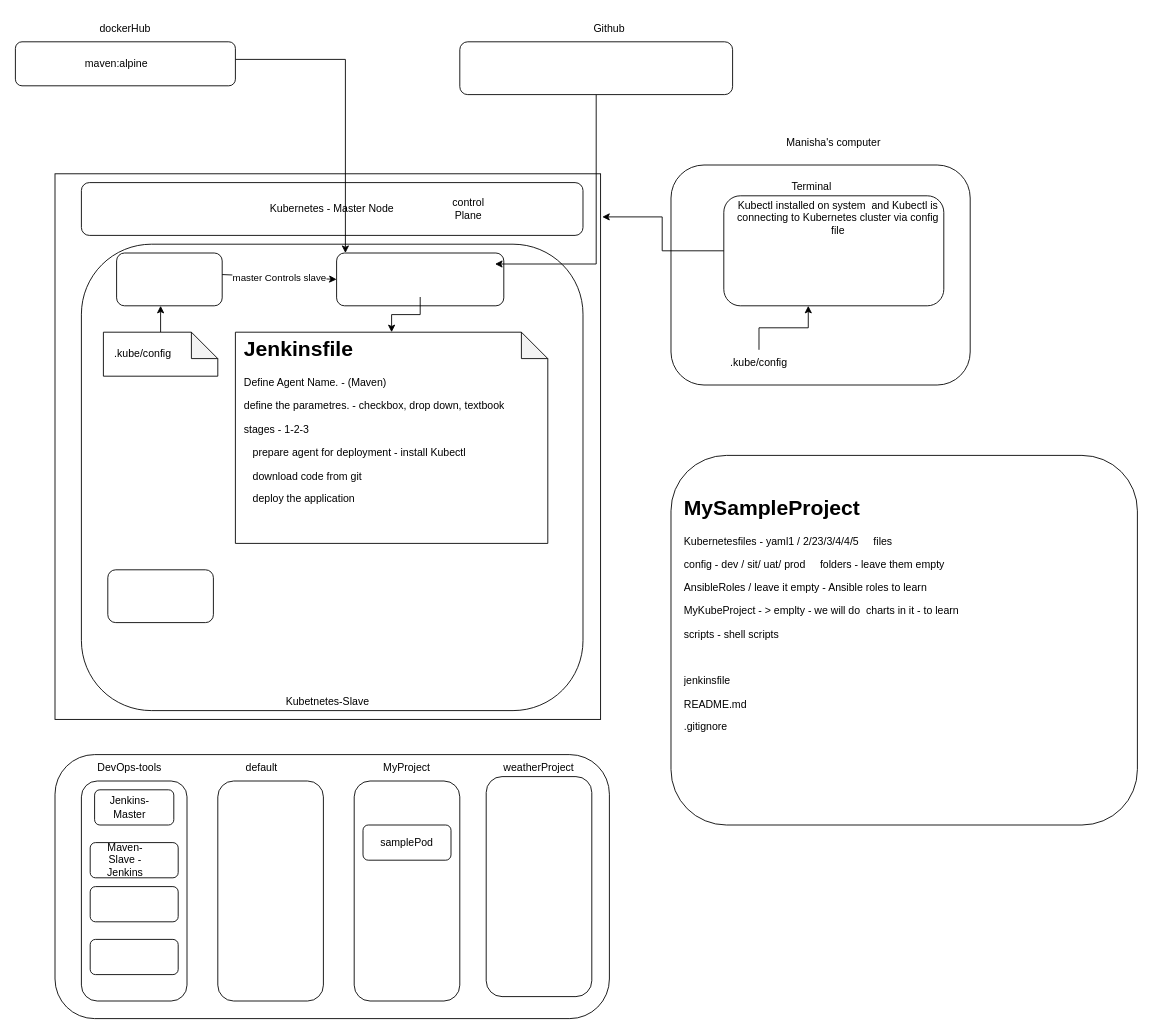
Image size: 1153x1034. Some labels were removed from this diagram. Each missing label, with the centre of its shape:
"Jenkins master- Pod" belongs at point (169, 279).
"Jenkins- Slave (Agent)- running only when build is triggered" belongs at point (420, 279).
"Sample - Pod" belongs at point (160, 596).
